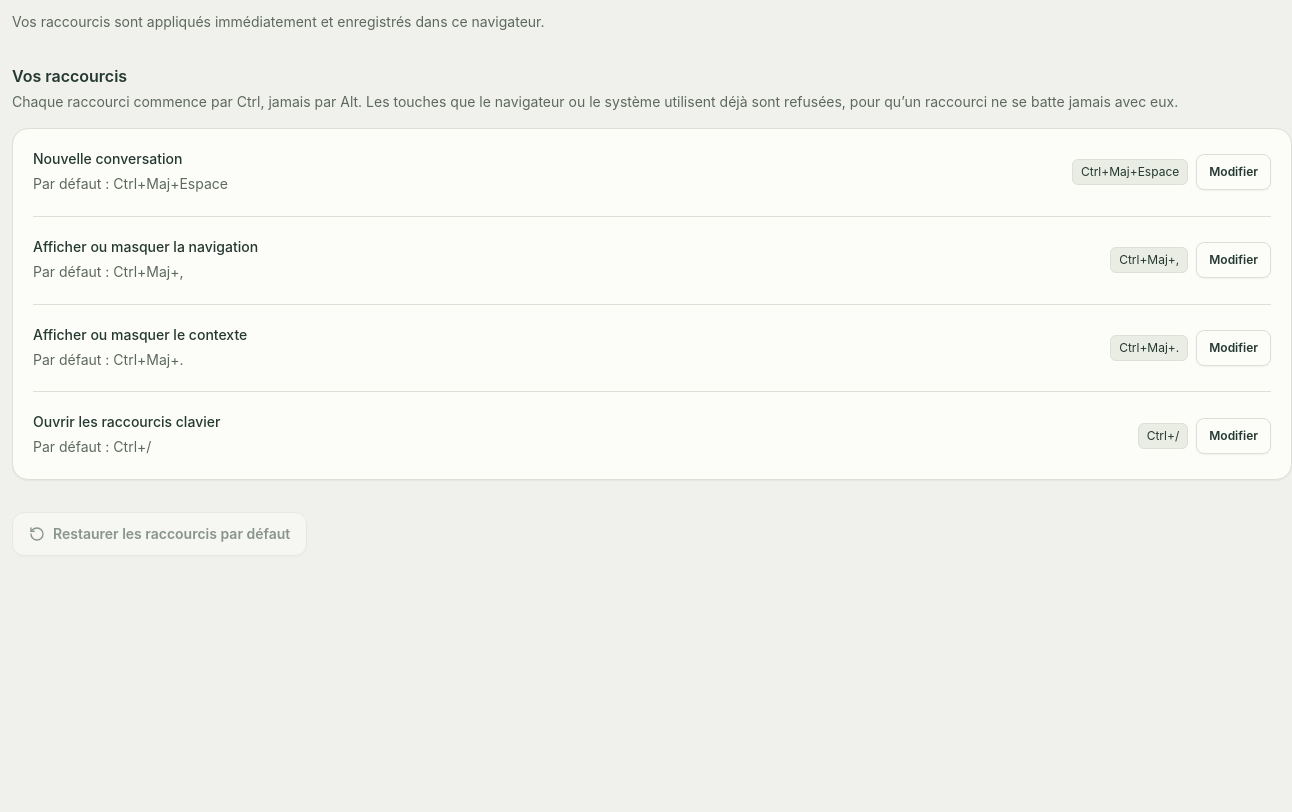
Scenario: Keyboard shortcut settings › restores one binding or all of them to the defaults
Expected: the button "Restaurer les raccourcis par défaut" is disabled, [12,512,307,556]
Click the button "Modifier" in the row of "Afficher ou masquer le contexte". click: (1234, 348)
box: [1196,330,1271,366]
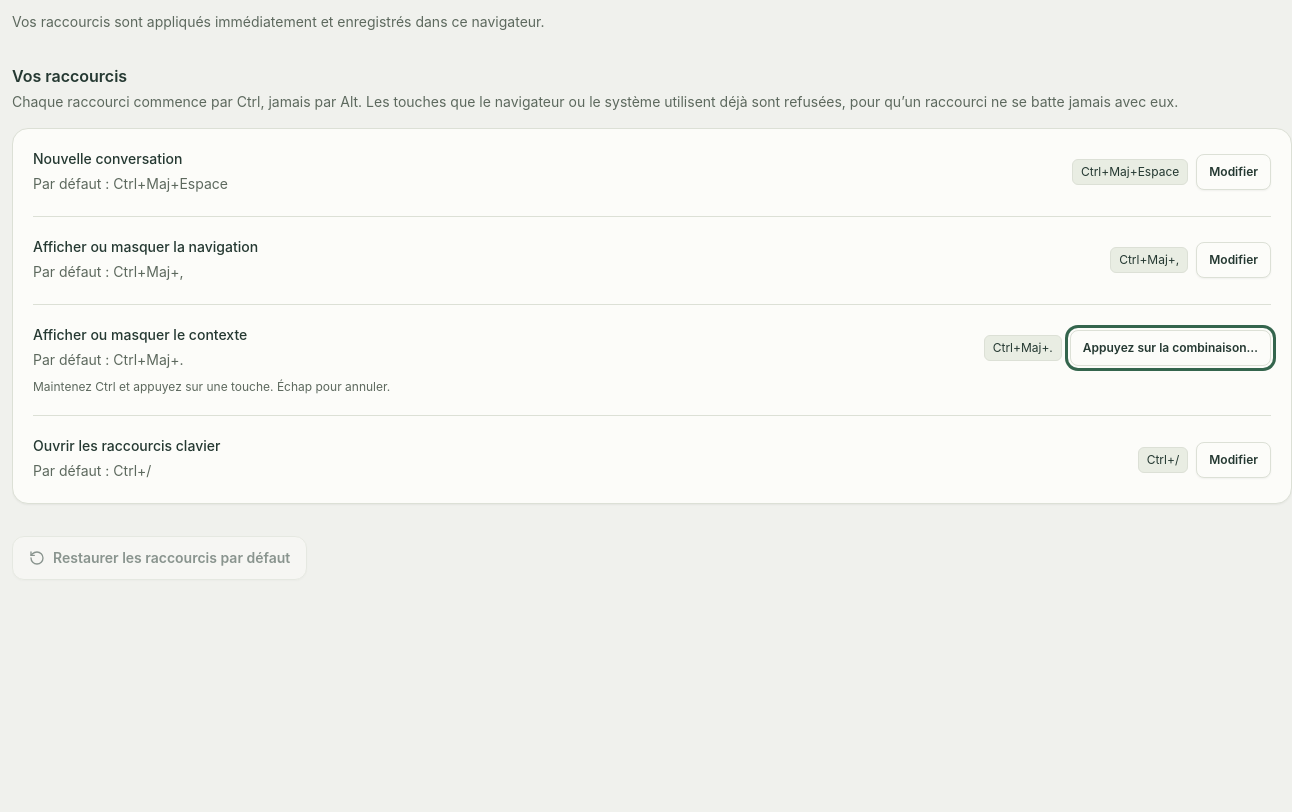
Type keys "{Control>}[Semicolon]{/Control}"
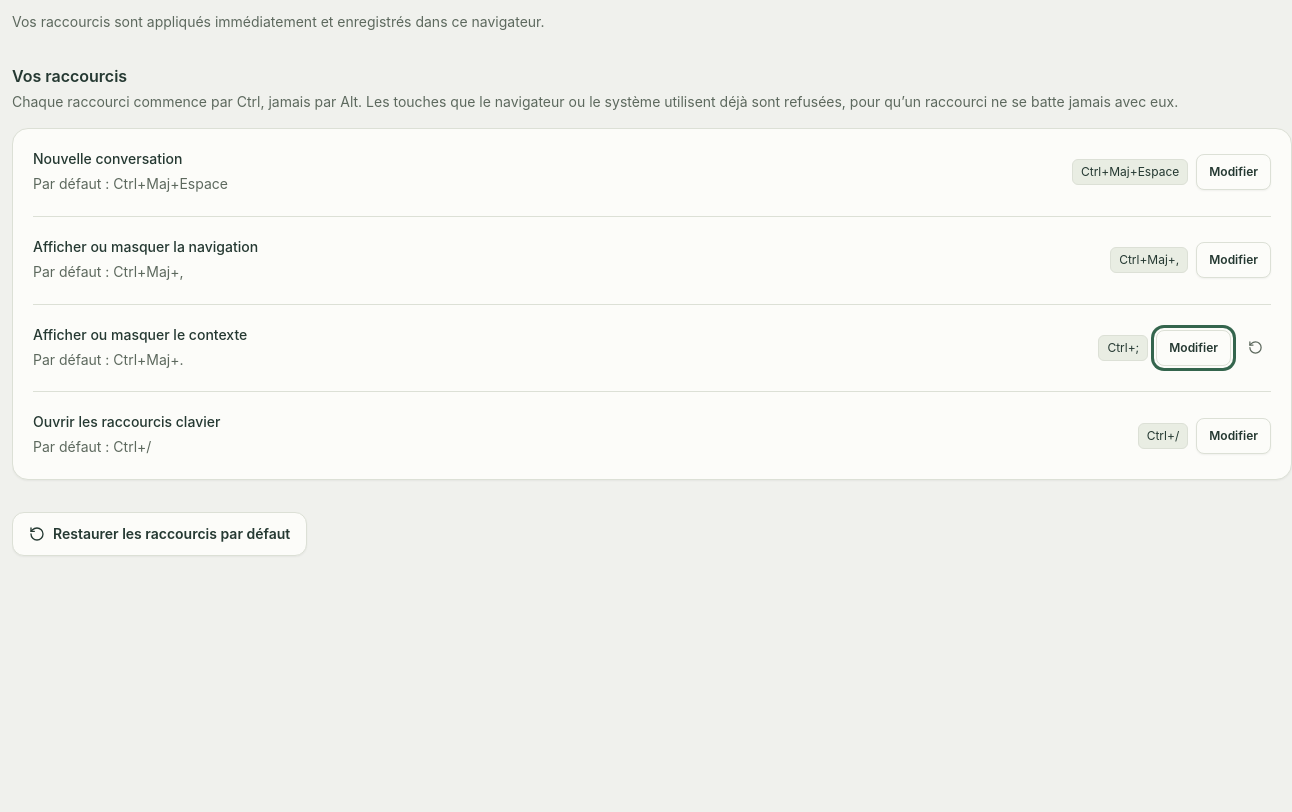
Click the button "Modifier" in the row of "Afficher ou masquer la navigation". click: (1234, 260)
box: [1196,242,1271,278]
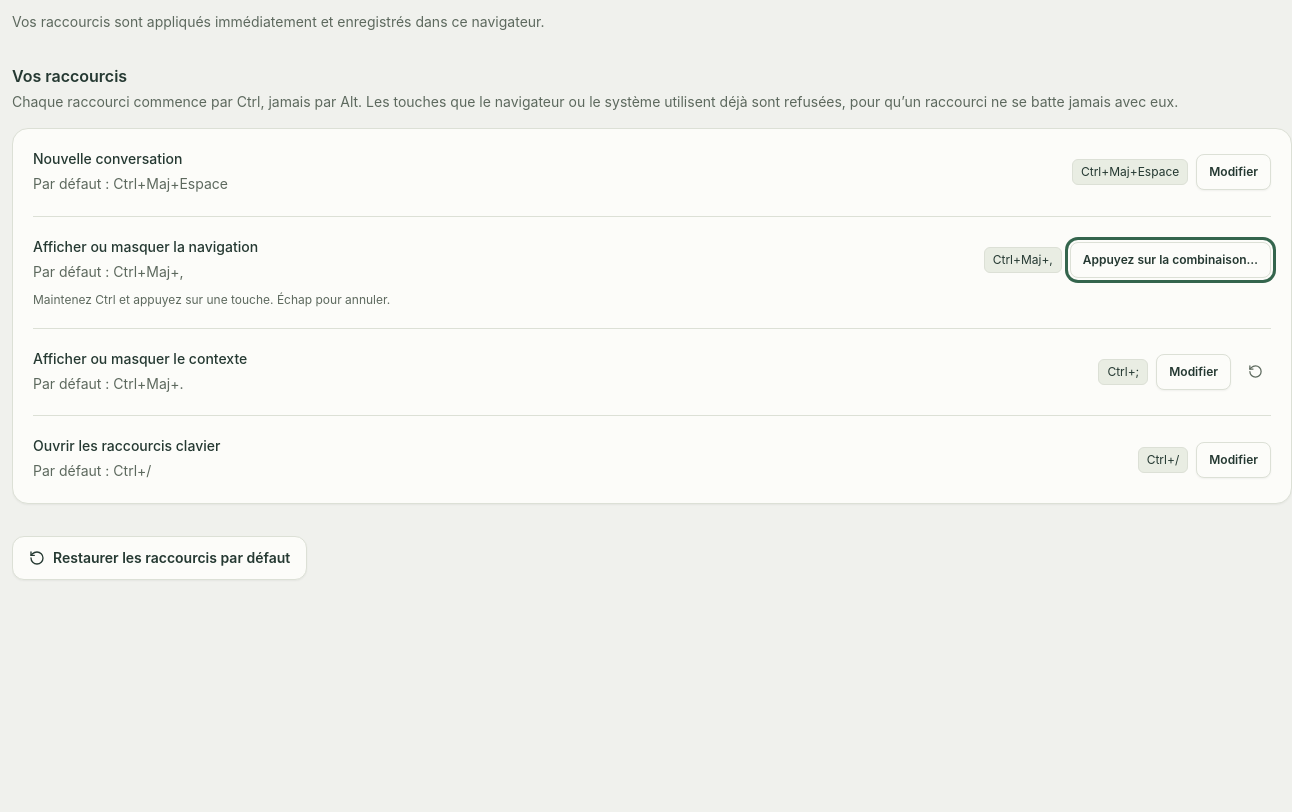
Type keys "{Control>}[Quote]{/Control}"
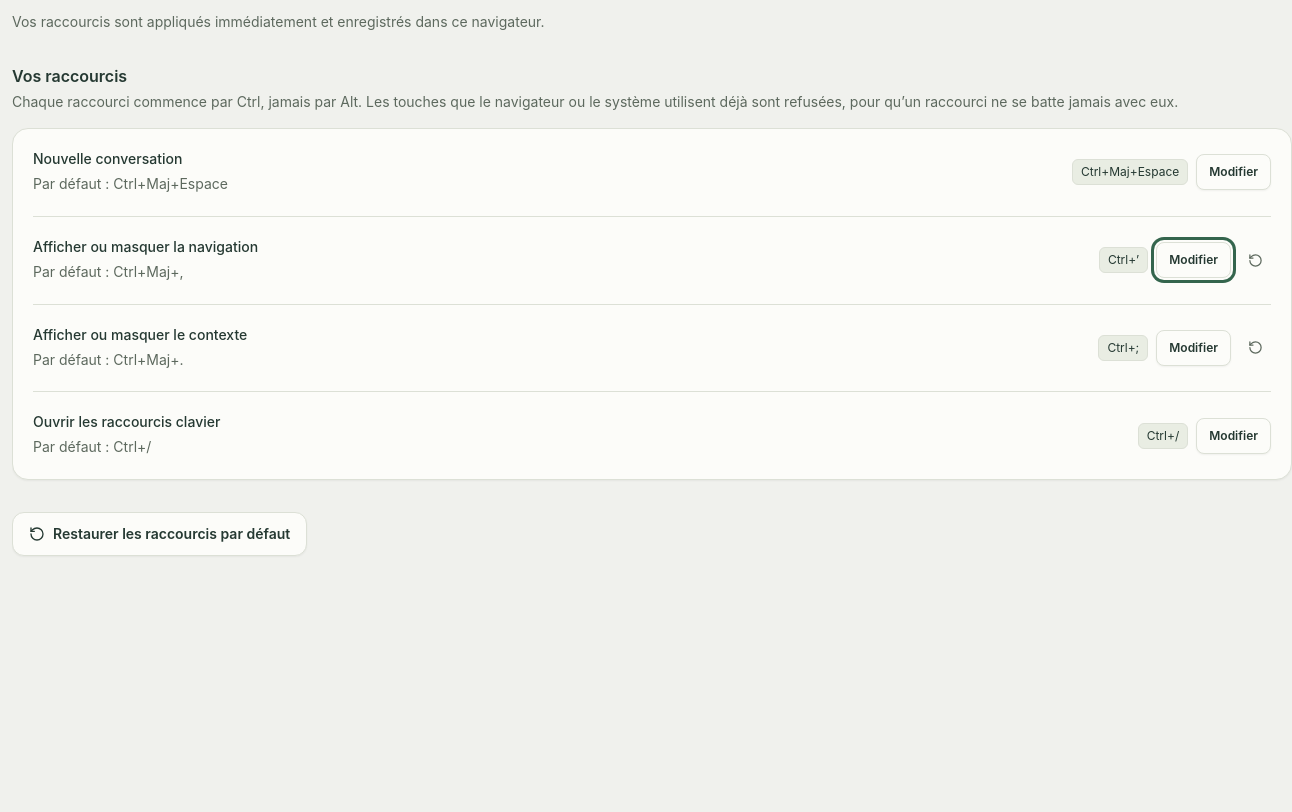
Now the text "Ctrl+;" is shown, box [1098,335,1148,361]
Now the button "Restaurer les raccourcis par défaut" is enabled, box [12,512,307,556]
Now the text "Ctrl+’" is shown, box [1099,247,1148,273]
Click the button named "Rétablir le raccourci par défaut de « Afficher ou masquer le contexte »". click: (1255, 348)
box: [1239,332,1271,364]
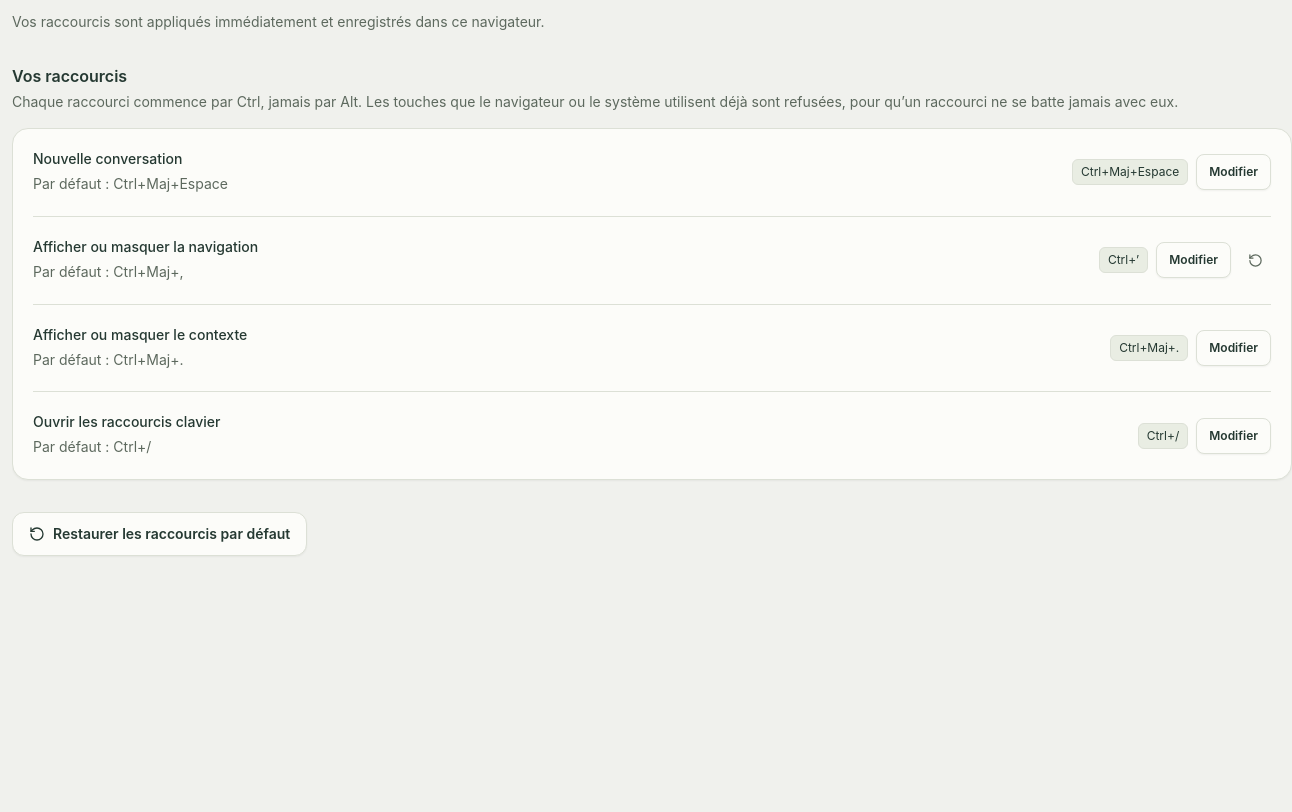
Now the text "Ctrl+’" is shown, box [1099,247,1148,273]
Now the text "Ctrl+Maj+." is shown, box [1110,335,1188,361]
Click the button "Restaurer les raccourcis par défaut". click: (160, 534)
box: [12,512,307,556]
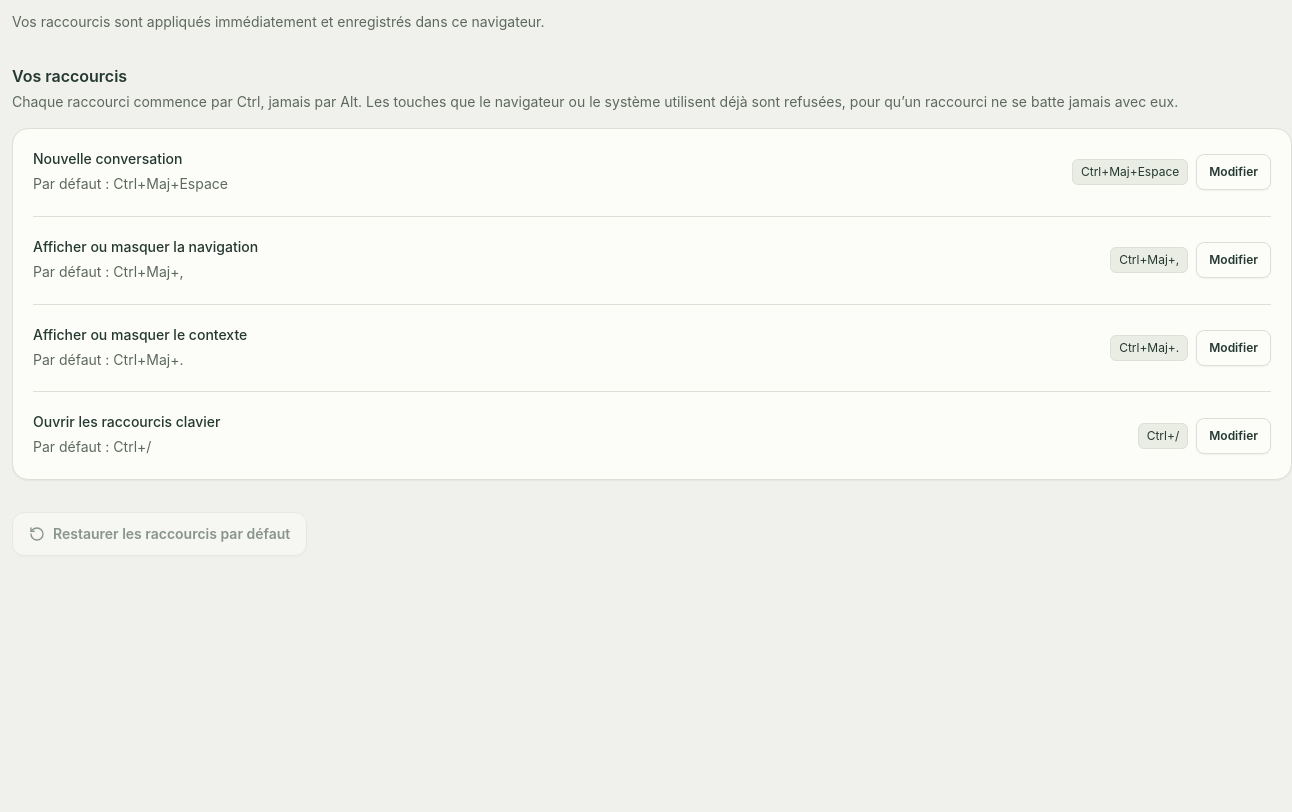
Now the text "Ctrl+Maj+," is shown, box [1110,247,1188,273]
Now the button "Restaurer les raccourcis par défaut" is disabled, box [12,512,307,556]
